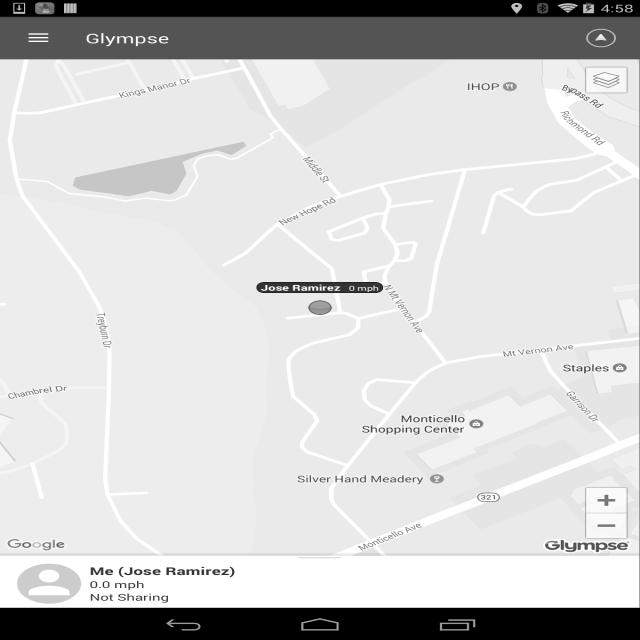ImageButton: (9, 17, 68, 59), (584, 66, 629, 94), (584, 486, 629, 513), (584, 513, 629, 540)
ImageView: (17, 564, 81, 604), (571, 22, 631, 54), (539, 536, 635, 556), (5, 538, 70, 552)
TextView: (90, 564, 622, 578), (90, 578, 622, 591), (90, 591, 622, 603), (85, 29, 169, 47)
